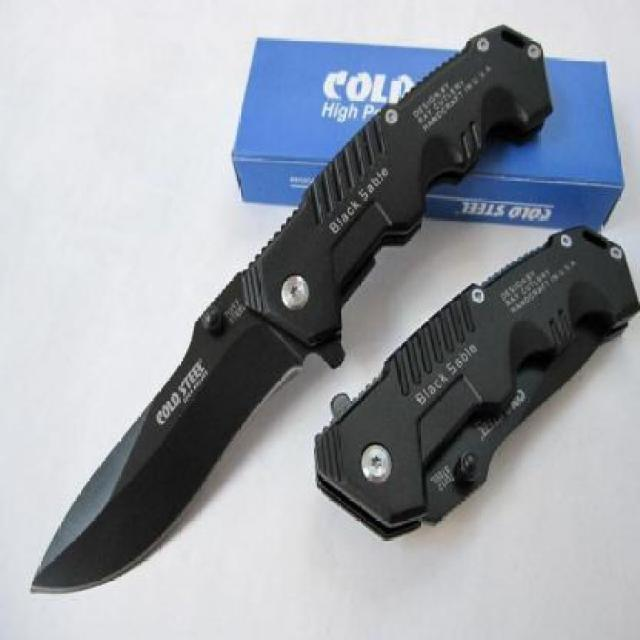-: (20, 269, 311, 614)
